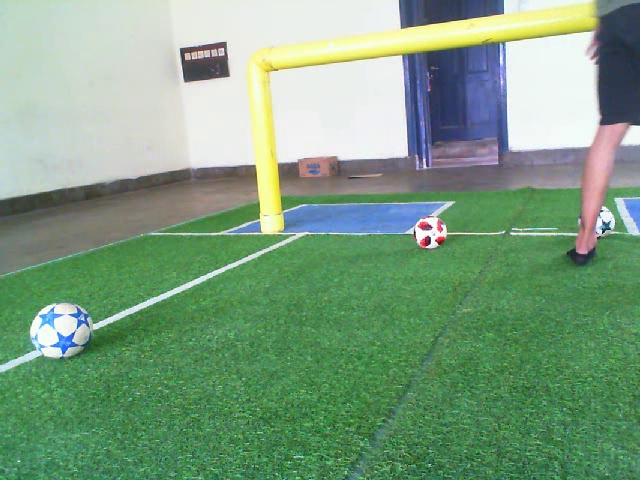ball: (28, 300, 94, 361), (412, 214, 449, 250), (592, 204, 617, 239)
